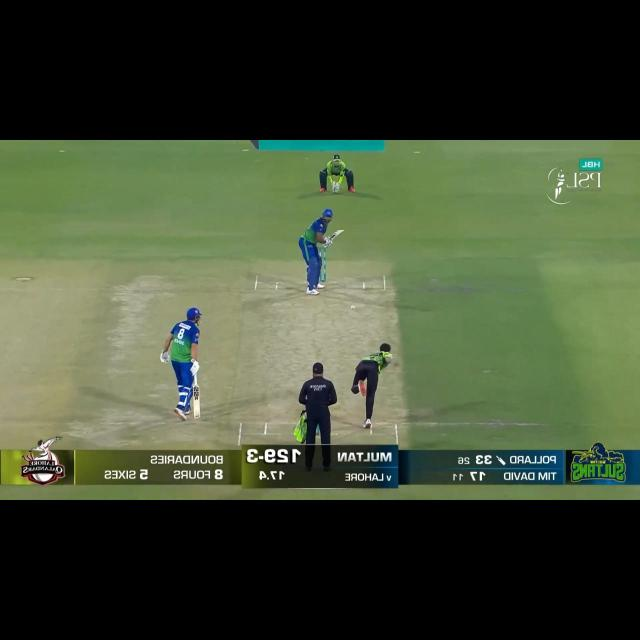bat: (192, 383, 203, 421), (326, 228, 346, 243)
toe: (192, 412, 202, 420), (334, 228, 345, 235)
